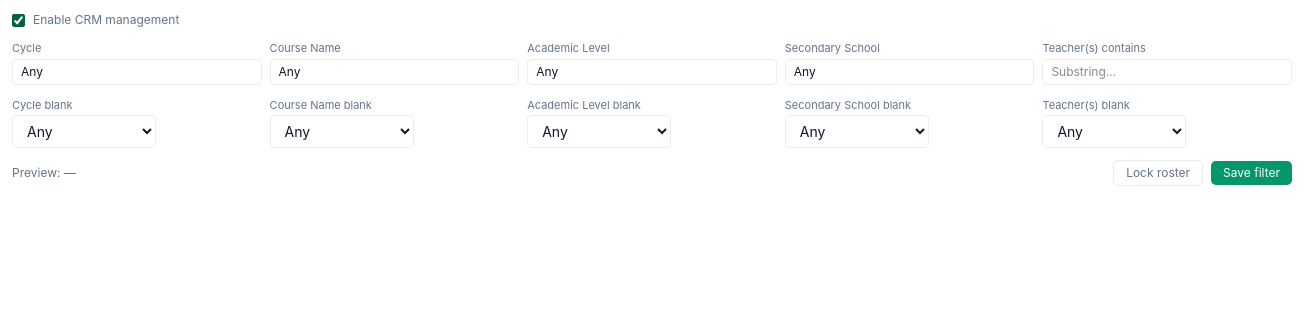
Test: CrmFilterPanel reconcile status › keeps failed reconcile conflicts in the modal without refreshing roster
Click the button "Save filter" at (1252, 173), box [1211,161,1292,185]
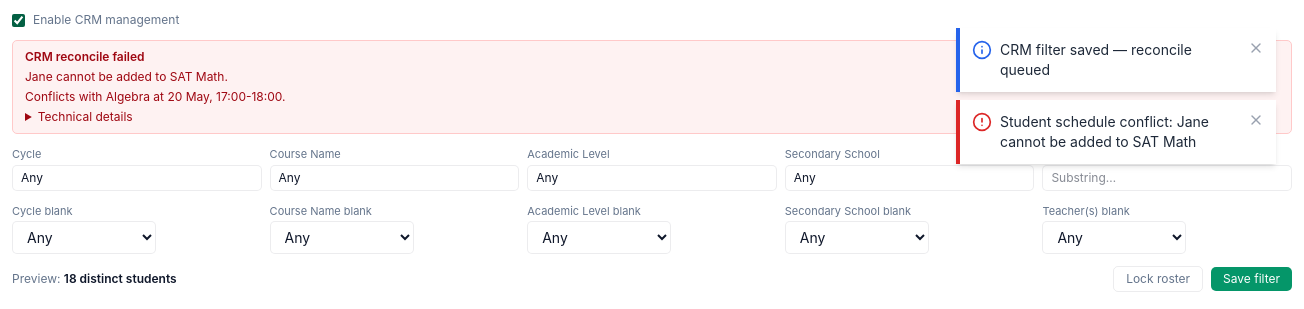
Now the text "CRM reconcile failed" is shown, box [25,49,145,64]
Now the text "Jane cannot be added to SAT Math." is shown, box [25,69,228,84]
Now the text "Conflicts with Algebra at 20 May, 17:00-18:00." is shown, box [25,89,286,104]
